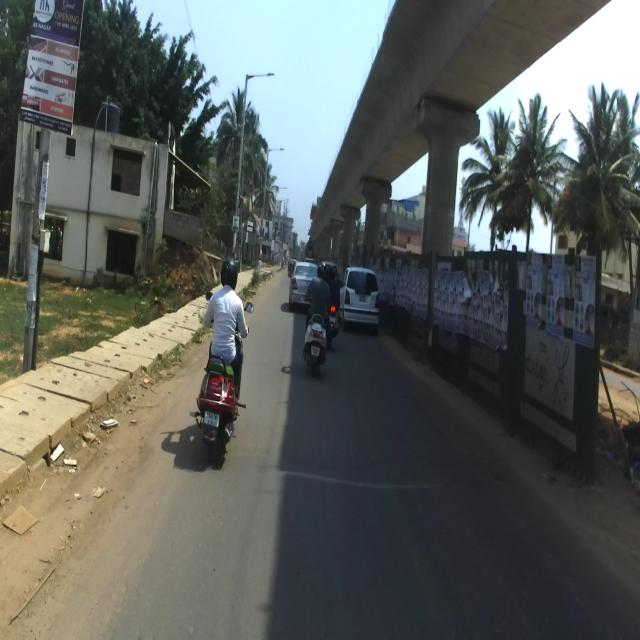car ahead at: (342, 268, 382, 332)
electric pole ahead at: (16, 108, 57, 378)
motorcycle ahead at: (196, 356, 251, 462), (302, 310, 336, 373)
